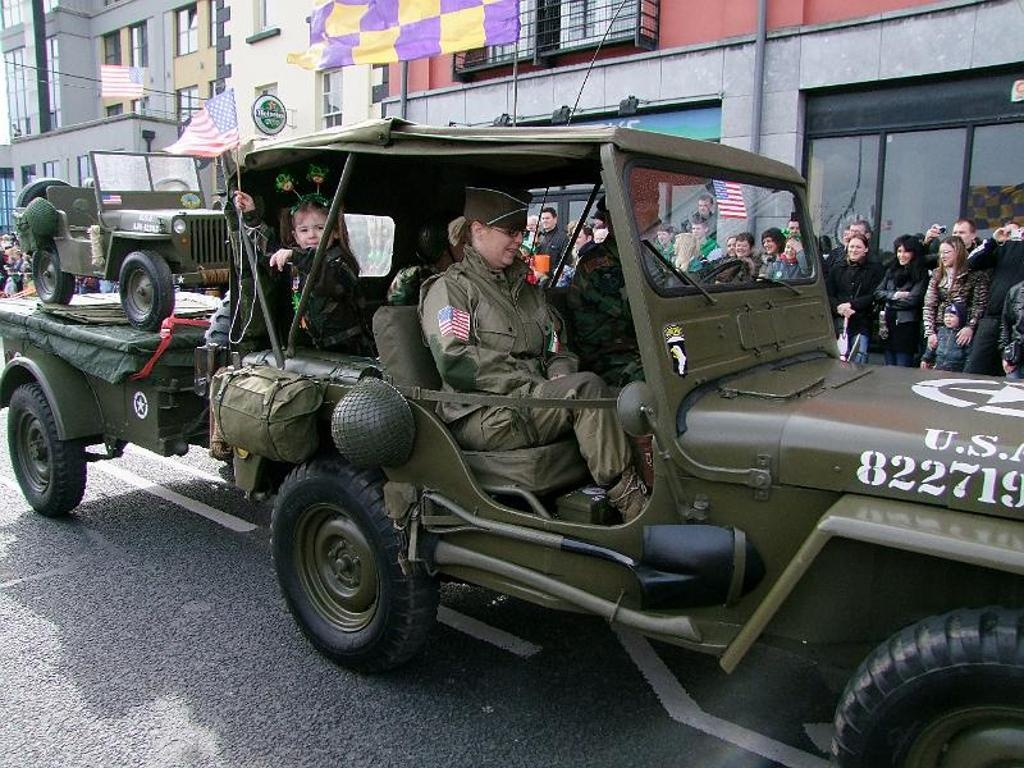human_face: (482, 216, 524, 266), (626, 194, 660, 242), (295, 212, 331, 252), (950, 222, 970, 248), (938, 244, 958, 266), (848, 240, 864, 260), (572, 228, 588, 246), (734, 239, 750, 257), (848, 225, 864, 243), (762, 237, 776, 255), (897, 246, 911, 264), (594, 232, 608, 248), (1006, 220, 1020, 236), (784, 241, 796, 259), (656, 230, 670, 244), (593, 215, 605, 231), (726, 238, 736, 256), (540, 213, 552, 227), (786, 222, 798, 236), (672, 238, 682, 254), (843, 230, 853, 246), (697, 200, 709, 213), (692, 224, 702, 238), (944, 313, 954, 327), (526, 220, 536, 232), (14, 253, 20, 259)
